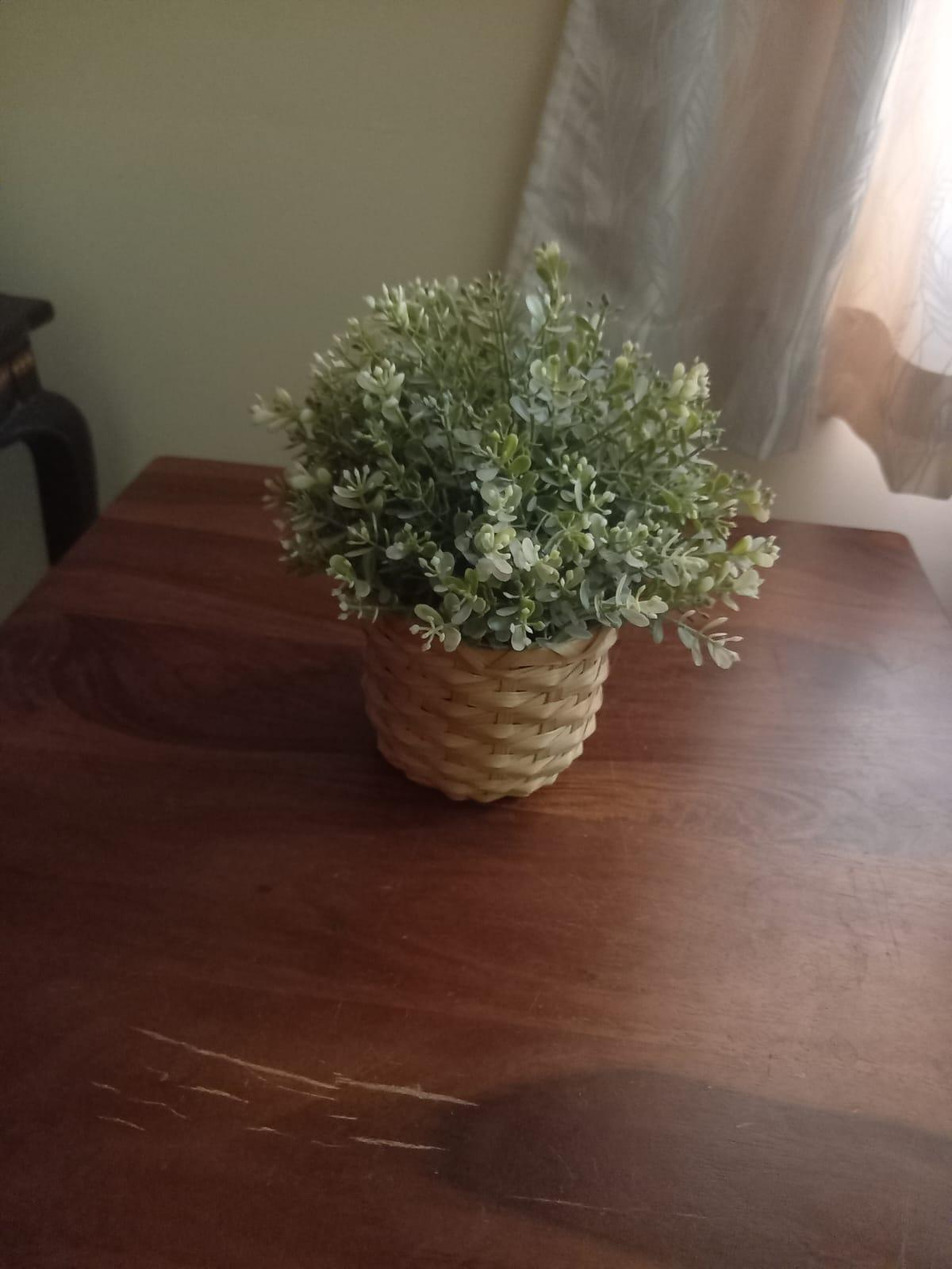notebooks: (291, 270, 789, 784)
vase: (288, 270, 770, 801)
